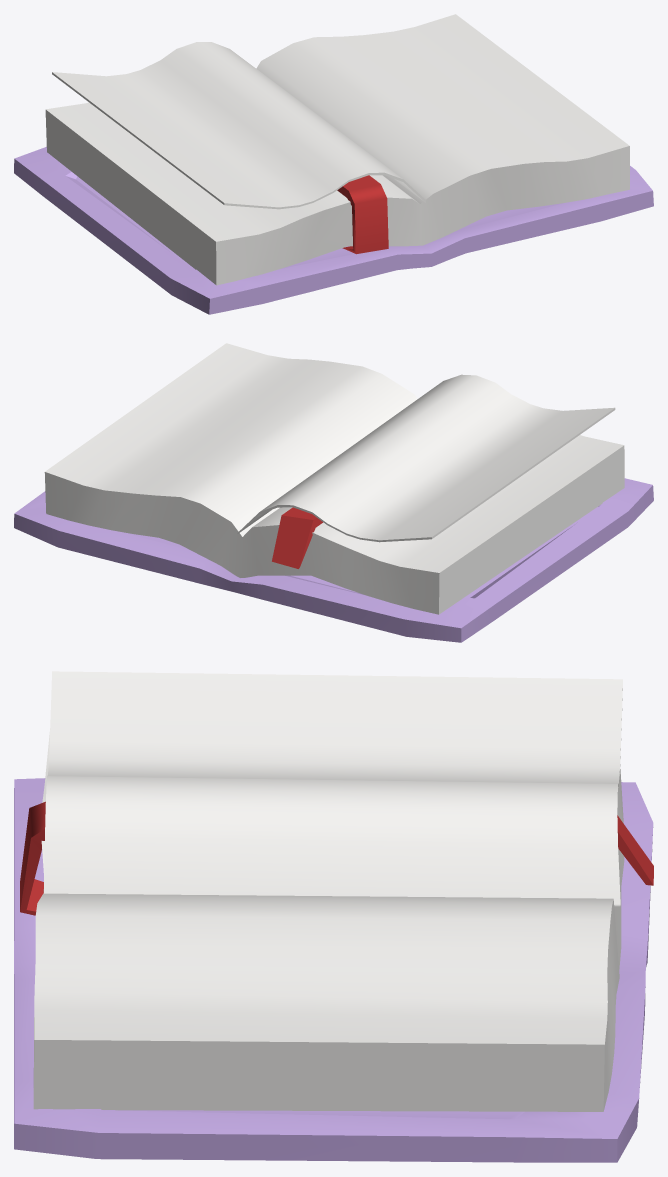
File: OpenBook_1.glb
The picture shows the model from 3 angles, top to bottom: view 1: azimuth 30°, elevation 25°; view 2: azimuth 150°, elevation 25°; view 3: azimuth 270°, elevation 25°; orthographic projection. The views are drawn at different scales.
Visible parts, largest first — view 1: OpenBook_1; view 2: OpenBook_1; view 3: OpenBook_1.
Part boxes in pixels (x1=…): OpenBook_1: x1=14, y1=14, x2=653, y2=314; OpenBook_1: x1=14, y1=343, x2=653, y2=642; OpenBook_1: x1=14, y1=671, x2=653, y2=1162.
Size of the model in its own units: 0.33 by 0.0707 by 0.2466.
1 material, 1 textured.
